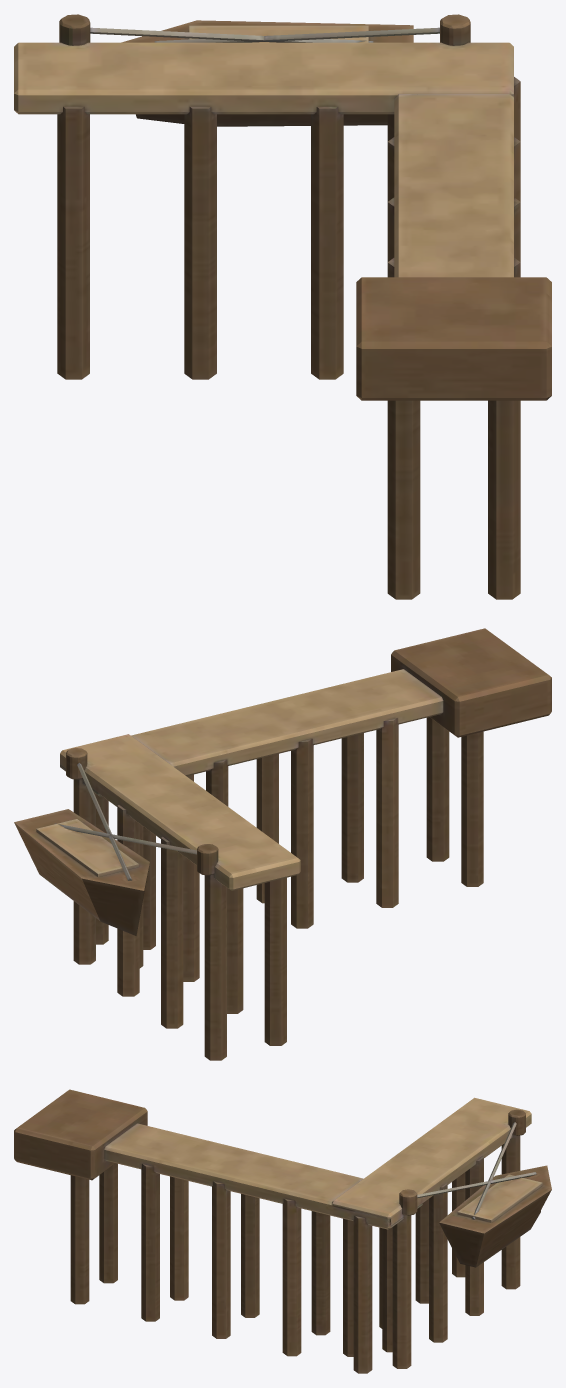
The model's file is harbor-pier-1.glb.
3 views of the same model, one above another, from view 1: azimuth 30°, elevation 25°; view 2: azimuth 150°, elevation 25°; view 3: azimuth 270°, elevation 25° (orthographic). The views are drawn at different scales.
Visible parts, largest first — view 1: harbor-pier-1; view 2: harbor-pier-1; view 3: harbor-pier-1.
Boxes of the visible parts, box(x1,y1,x2,y2) form: harbor-pier-1: box(14, 14, 551, 599); harbor-pier-1: box(14, 628, 551, 1060); harbor-pier-1: box(14, 1089, 551, 1373).
Size of the model in its own units: 0.9222 by 0.62 by 1.73.
Materials: 1 (1 with a texture image).
